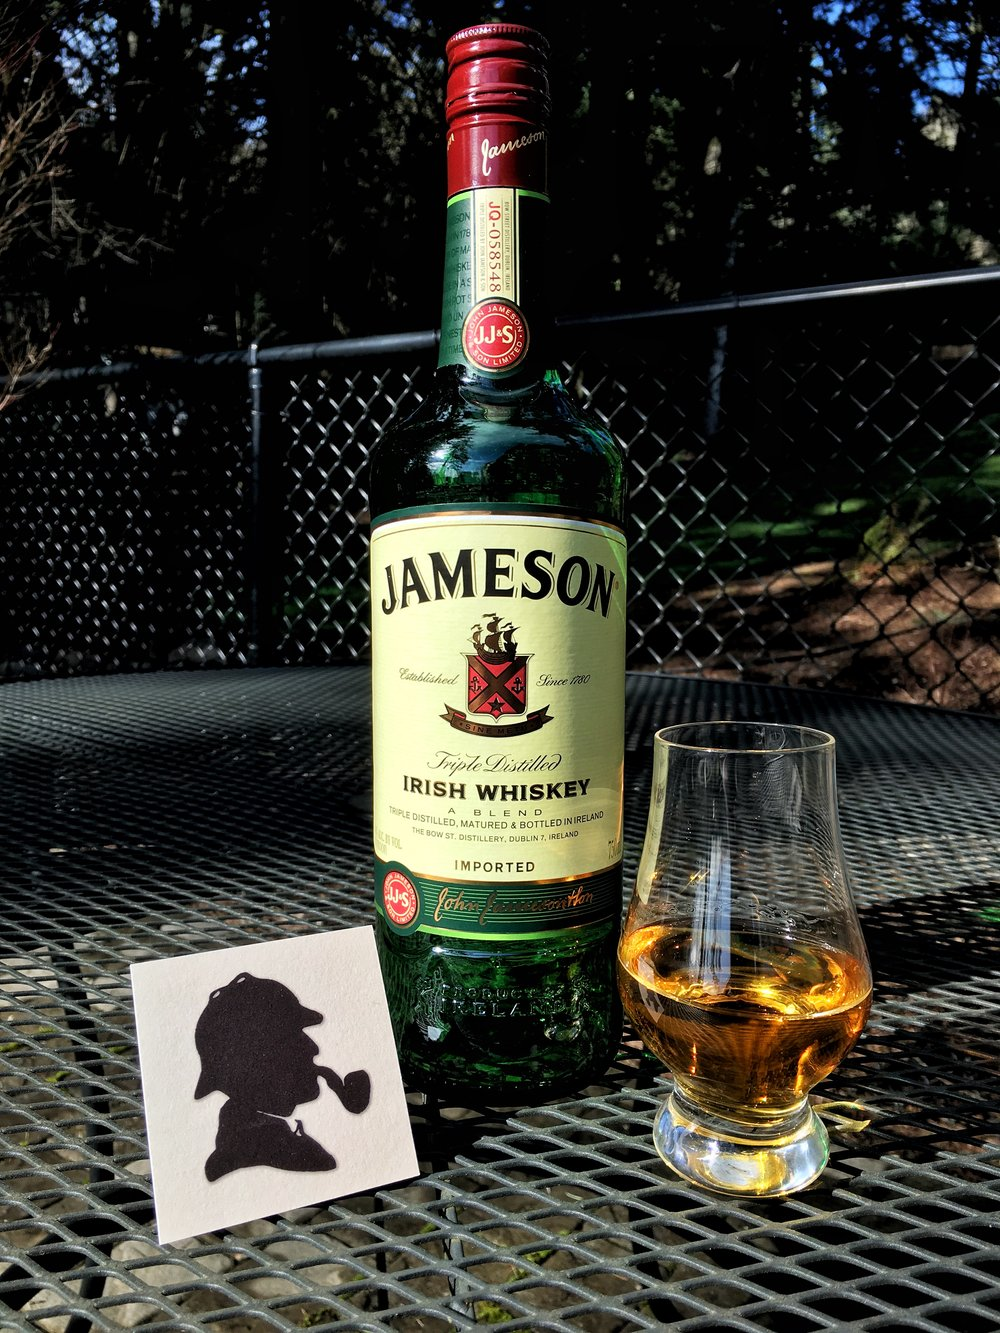Jameson: (359, 15, 639, 1113)
